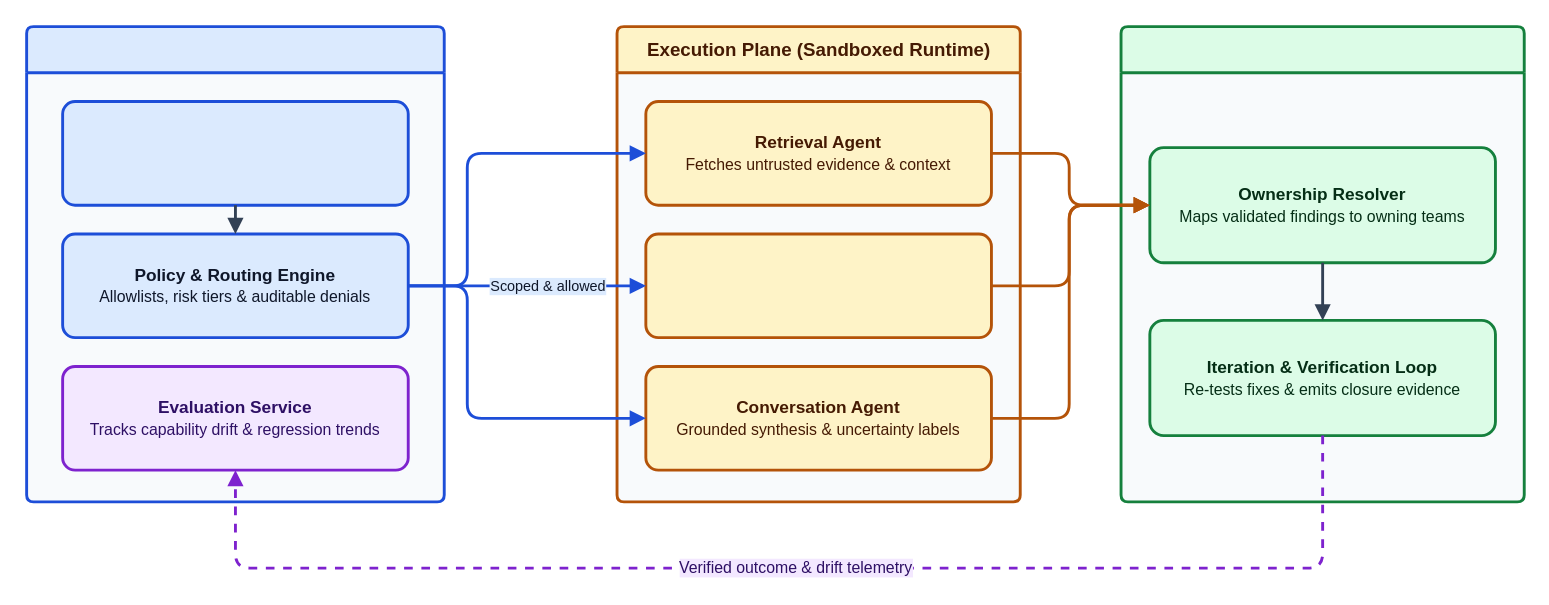
The diagram is 1549 pixels wide and 605 high, and some of its shapes have lost their labels. The box of each missing label's shape, as (x1, y1, x2, y2) in pixels:
Control Plane (Governance & Dispatch): (24, 24, 445, 503)
Remediation Workflow: (1119, 24, 1525, 503)
Task Scheduler Target selection, cadence & scope windows: (60, 99, 409, 206)
Tool-Use Agent Scoped credentials & failure containment: (644, 232, 992, 338)
